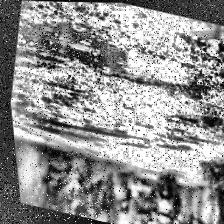pothole: (9, 8, 218, 106), (142, 9, 224, 81), (174, 102, 224, 138)
